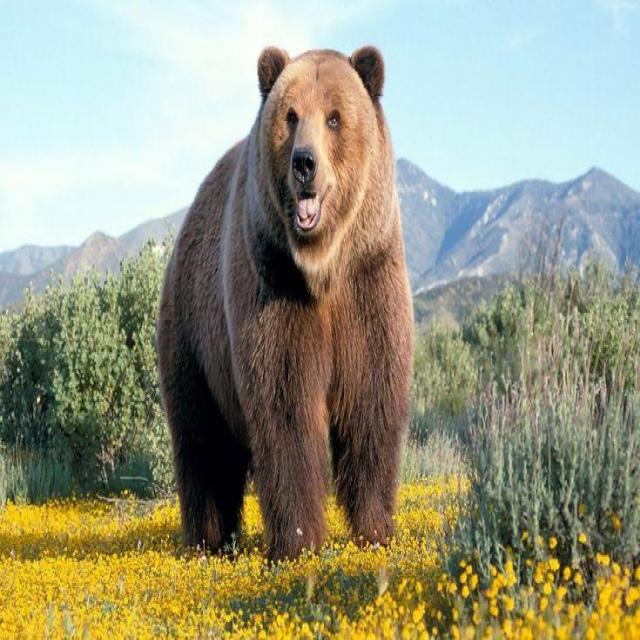Bear: (155, 46, 415, 565)
